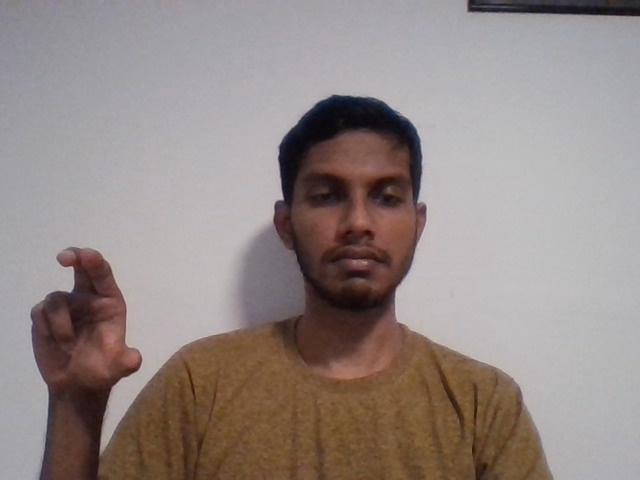no: (19, 240, 188, 418)
